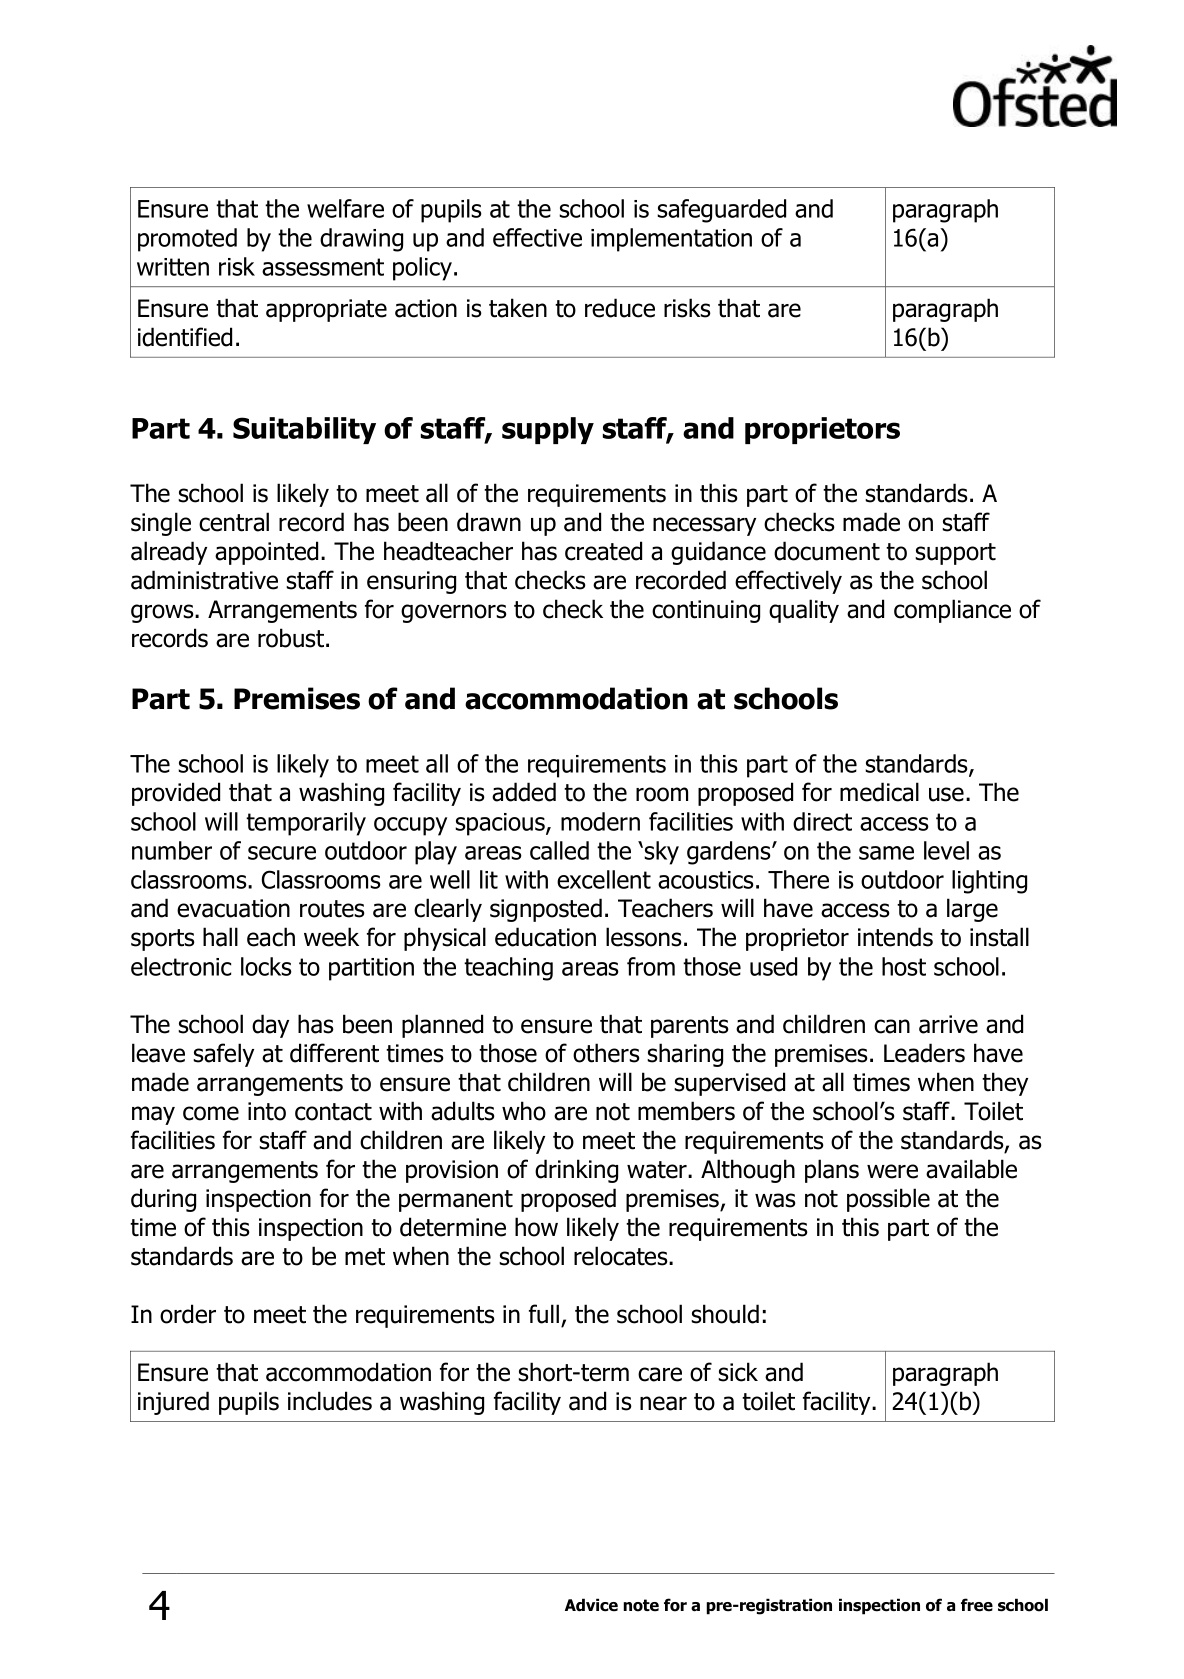full_lined: (129, 186, 1056, 359), (129, 1350, 1056, 1423)
